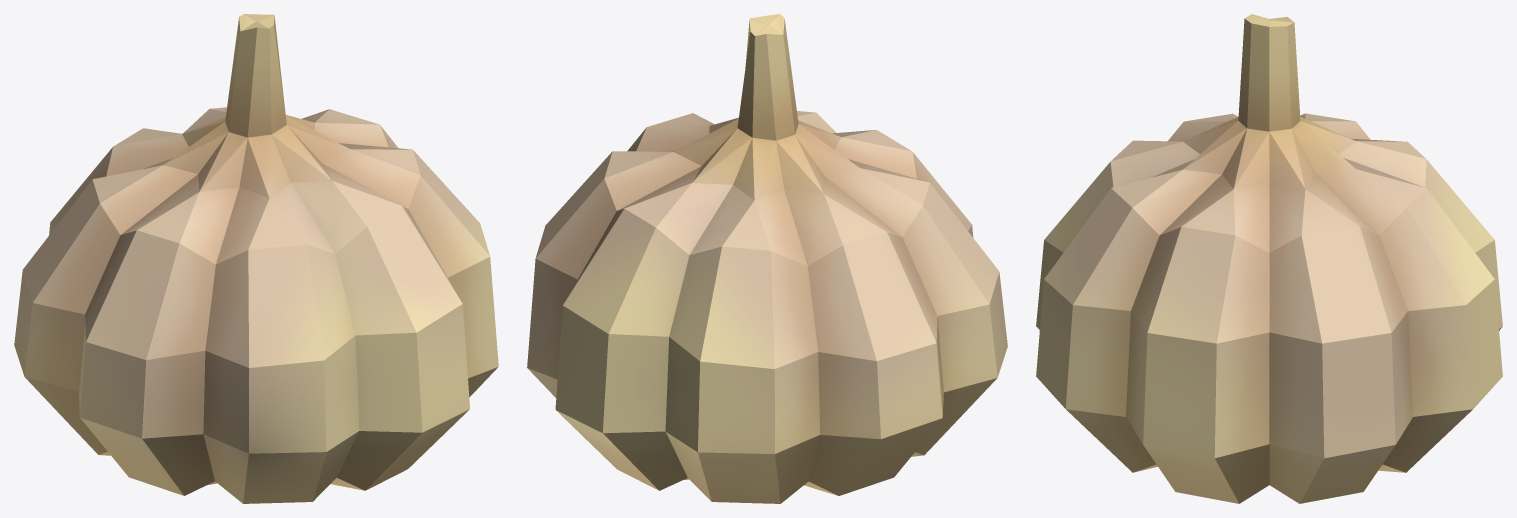
Rendered from Garlic2.obj.
3 views of the same model, side by side, from view 1: azimuth 30°, elevation 25°; view 2: azimuth 150°, elevation 25°; view 3: azimuth 270°, elevation 25° (orthographic).
Parts seen in each view (by area): view 1: Garlic; view 2: Garlic; view 3: Garlic.
Part boxes in pixels (box(x1,y1,x2,y2)): Garlic: box(14, 14, 498, 503); Garlic: box(527, 14, 1007, 503); Garlic: box(1036, 14, 1502, 503).
Bounding box in the file's own units: 4.49 × 4.55 × 4.49.
1 material, 1 textured.
